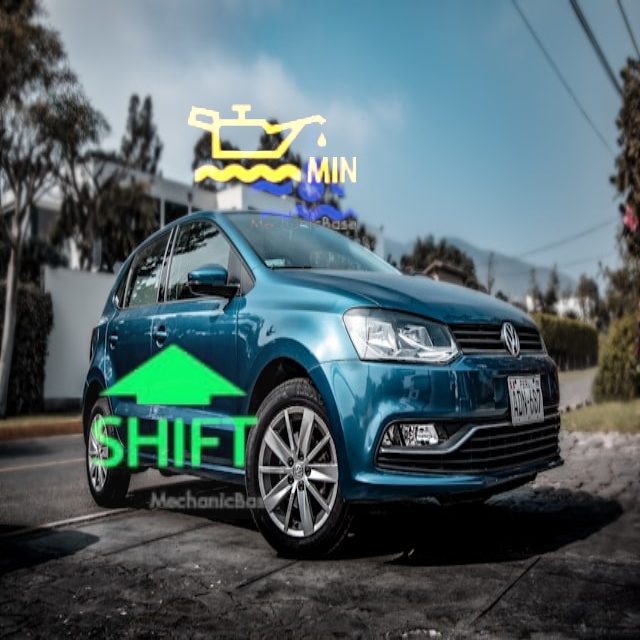symbol: (64, 299, 284, 519), (176, 51, 364, 239), (219, 74, 403, 258)
